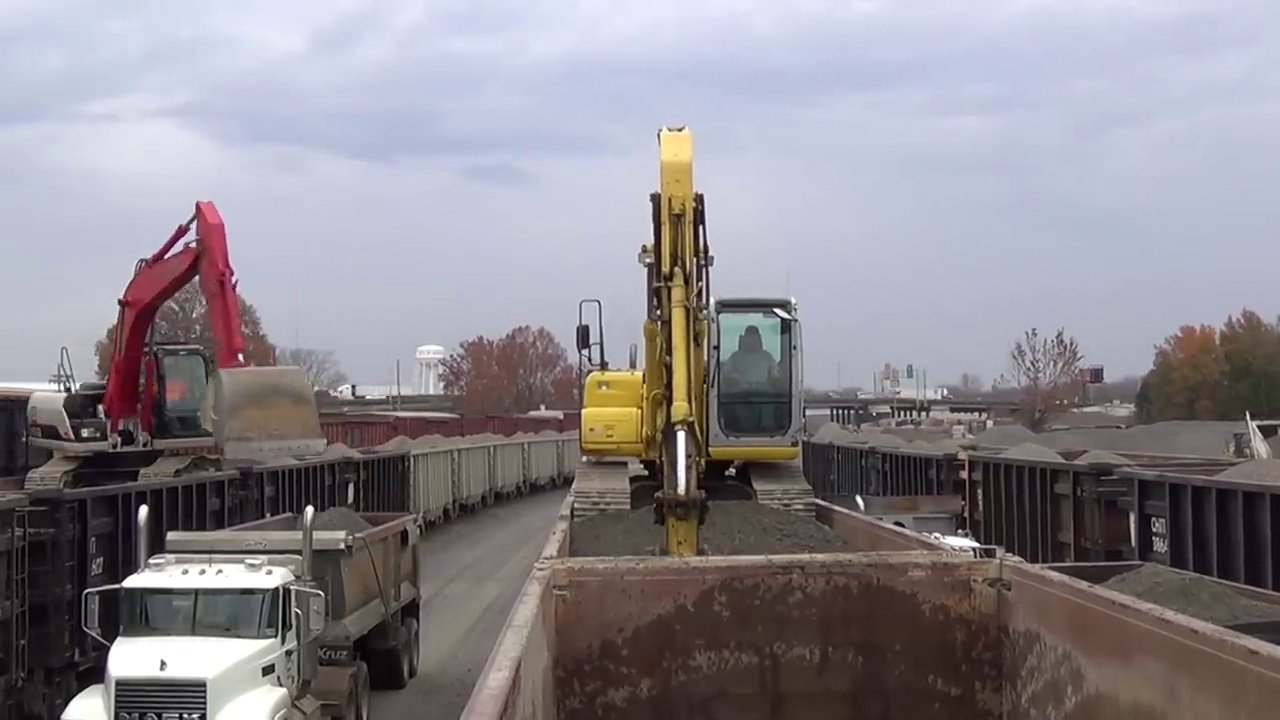excavator: (572, 124, 834, 558), (23, 200, 327, 507)
truck: (61, 509, 422, 720)
